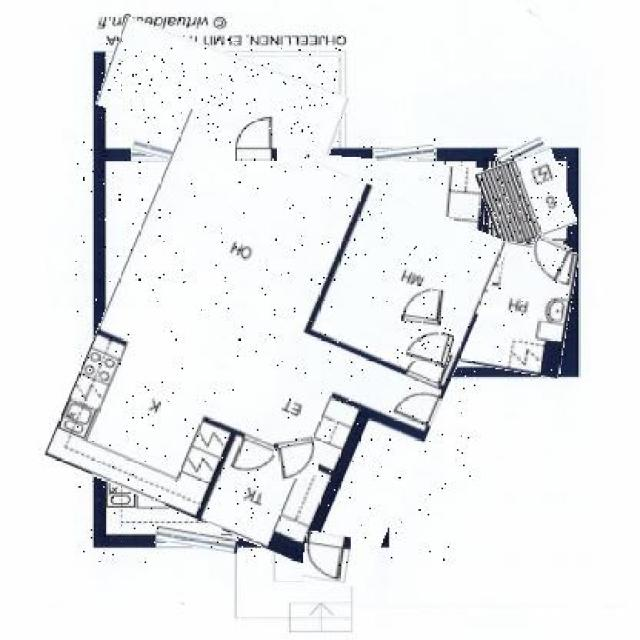door: (302, 534, 349, 586), (237, 114, 280, 160), (526, 237, 569, 280), (276, 437, 318, 478), (403, 286, 443, 328), (408, 328, 452, 366)
window: (130, 145, 222, 166), (156, 529, 238, 551), (496, 140, 546, 165), (374, 146, 434, 162), (278, 535, 294, 548)
zone: (74, 135, 480, 563), (100, 37, 345, 166), (297, 158, 485, 320), (446, 238, 574, 374), (264, 434, 388, 544), (480, 153, 572, 244)
